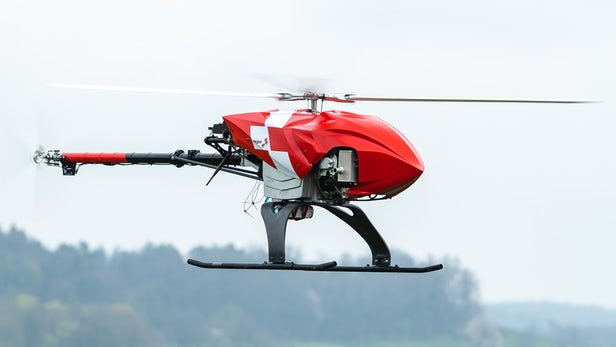drone: (15, 69, 606, 280)
